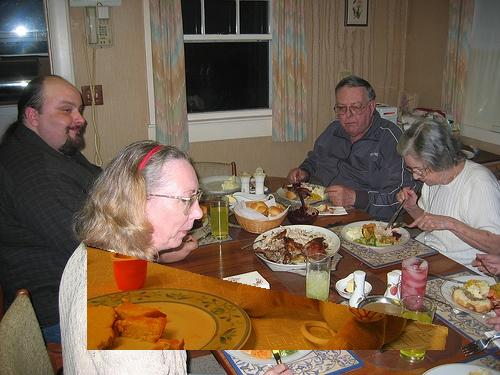tampered: (88, 246, 448, 350)
